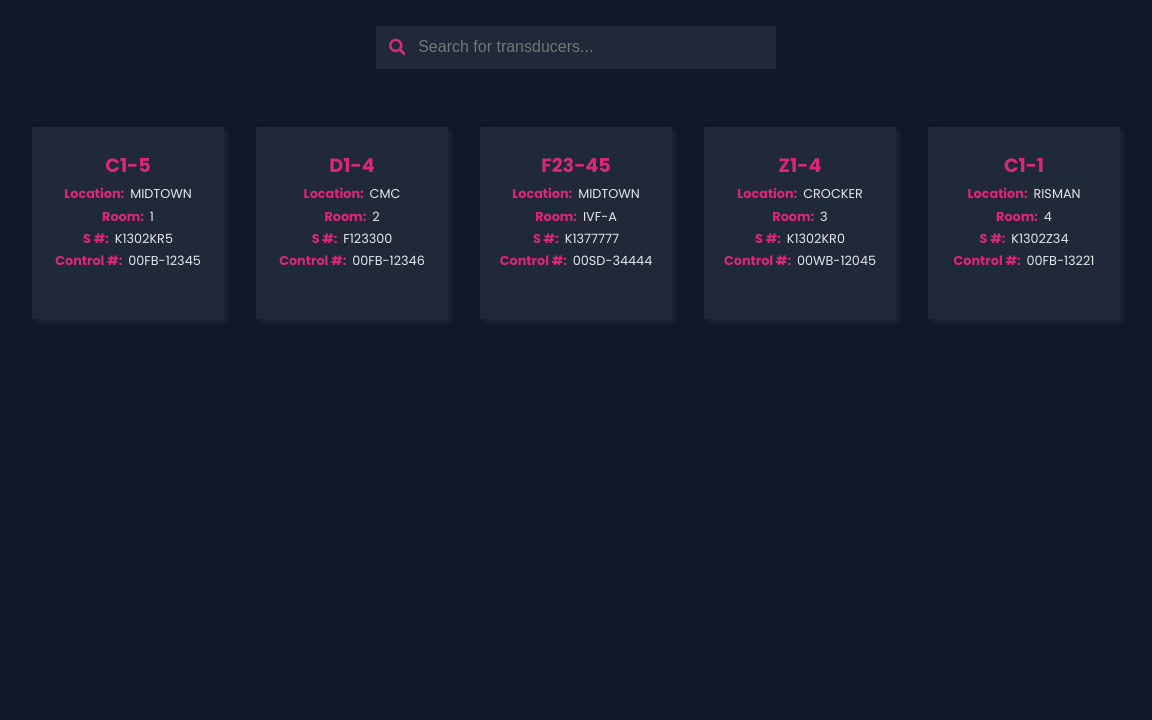
Test case: Transducers › should open up transducer details on click
Click the list item that starts with "C1-5" at (128, 223), box [32,127,224,319]
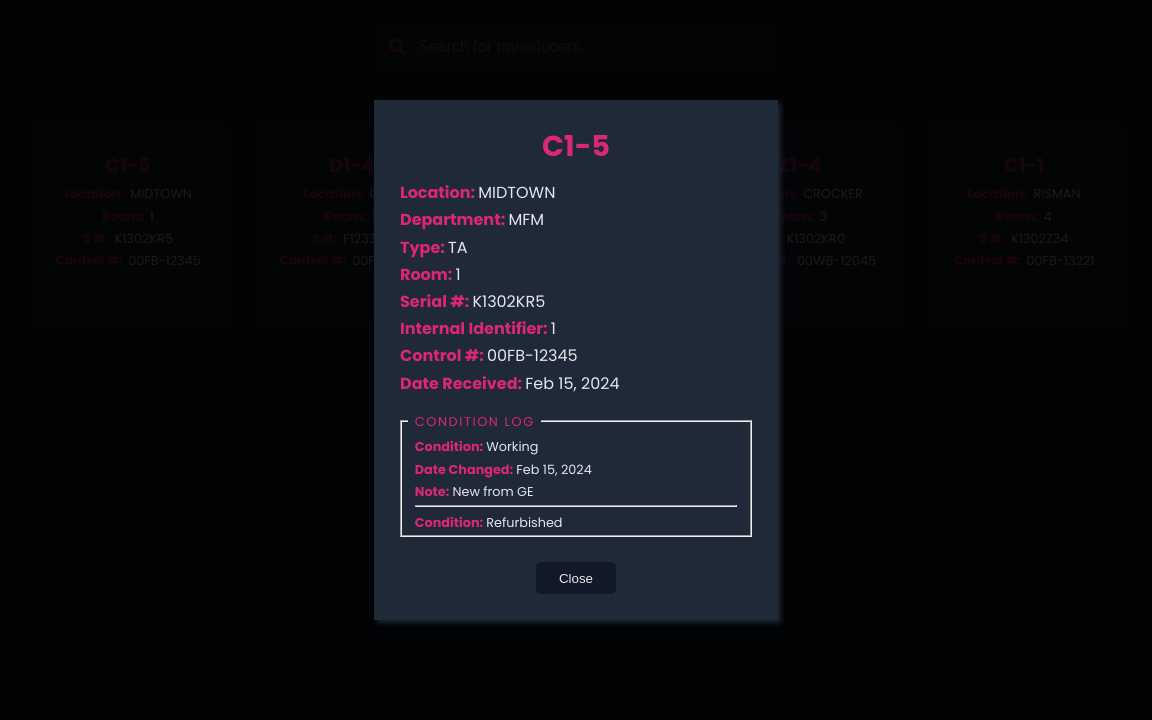
Check: the dialog is shown, box [374,100,778,620]
Check: the button "Close" is shown, box [536,562,616,594]
